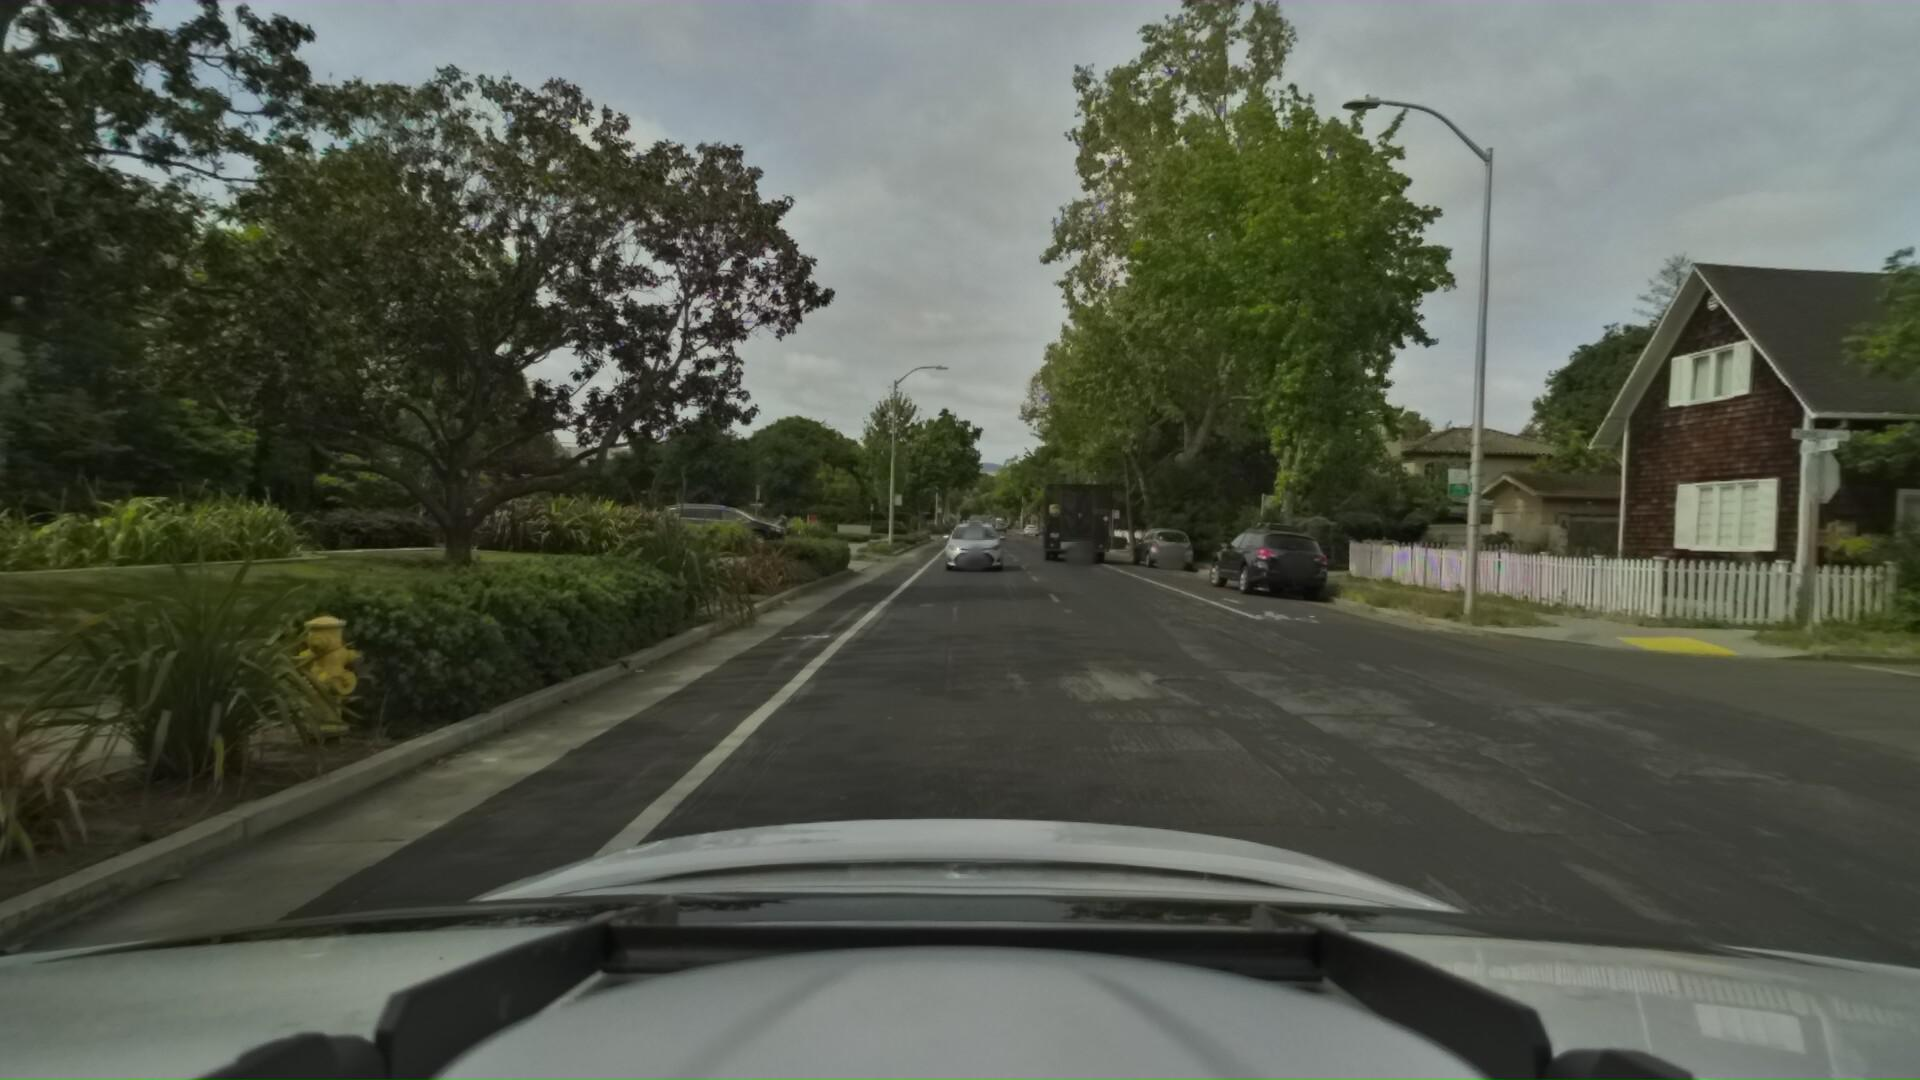car: (1193, 516, 1336, 597), (666, 501, 793, 547), (940, 516, 1006, 568), (1124, 522, 1195, 567)
truck: (1036, 473, 1108, 560)
